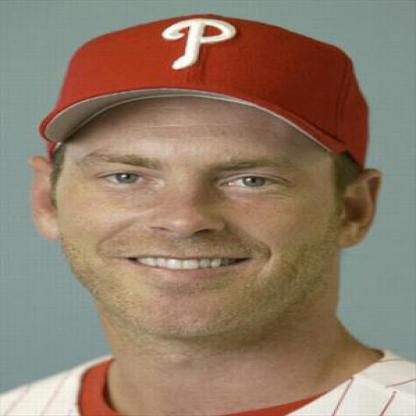face: (52, 19, 353, 341)
